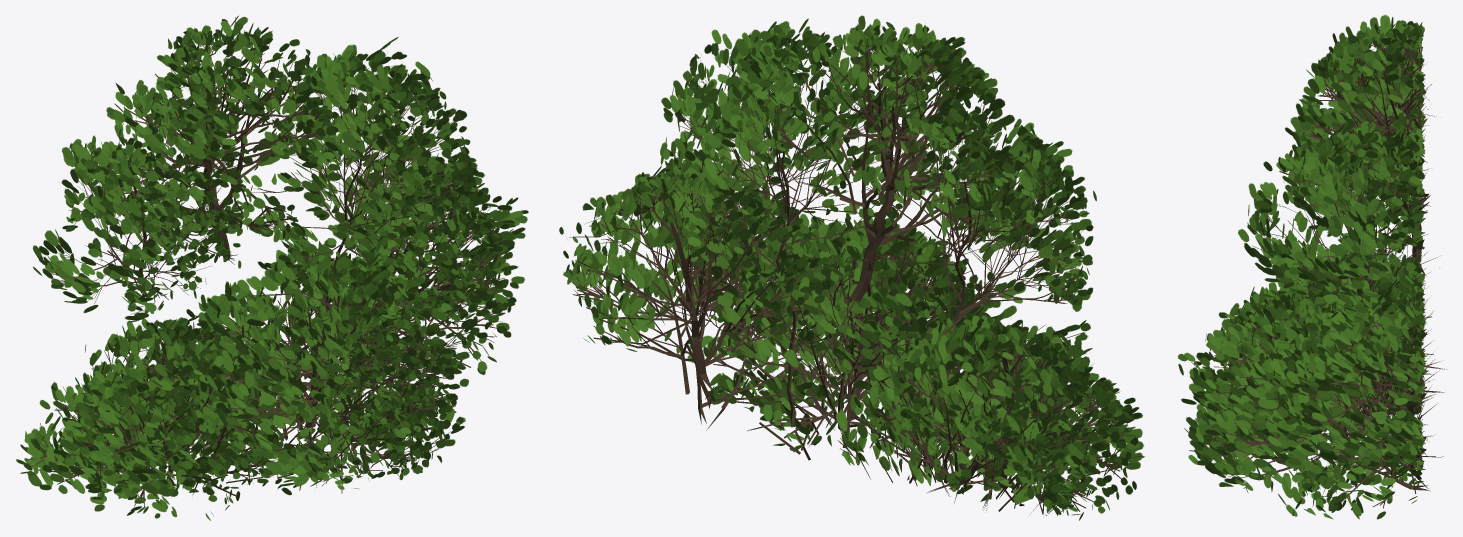
3 renders of one model, left to right at view 1: azimuth 30°, elevation 25°; view 2: azimuth 150°, elevation 25°; view 3: azimuth 270°, elevation 25°, orthographic. The views are drawn at different scales.
Parts seen in each view (by area): view 1: oak 01.001_trunk_Mat.001_0.360; view 2: oak 01.001_trunk_Mat.001_0.360; view 3: oak 01.001_trunk_Mat.001_0.360.
Part boxes in pixels (x1,y1,x2,y2): oak 01.001_trunk_Mat.001_0.360: (16, 15, 528, 520); oak 01.001_trunk_Mat.001_0.360: (559, 15, 1144, 520); oak 01.001_trunk_Mat.001_0.360: (1177, 14, 1447, 519).
Size of the model in its own units: 5.9 by 4.68 by 2.73.
2 materials, 1 textured.
